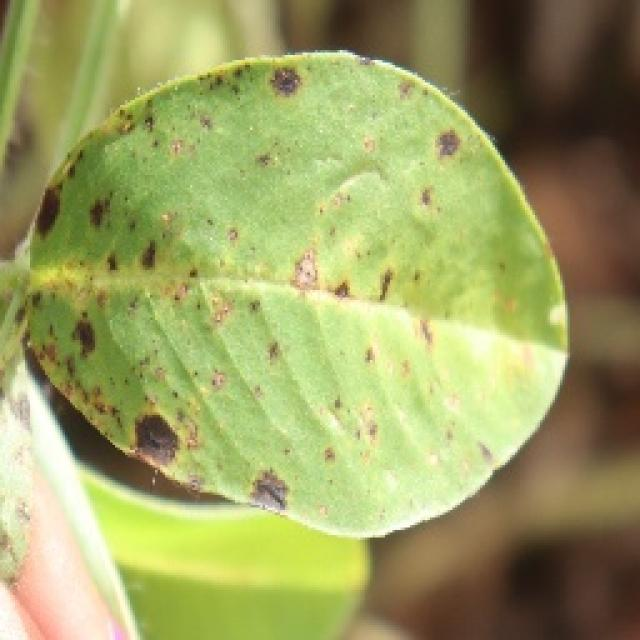Yellowish: (24, 54, 545, 572)
